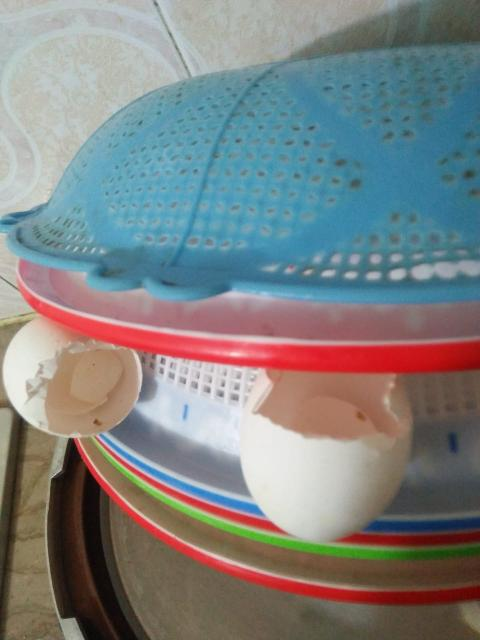Roto: (236, 367, 417, 542), (2, 314, 143, 439)
